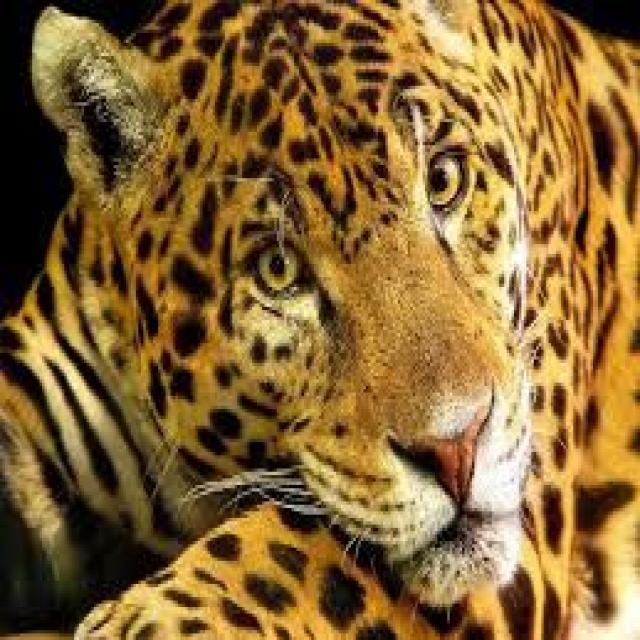Jaguar: (10, 0, 640, 637)
